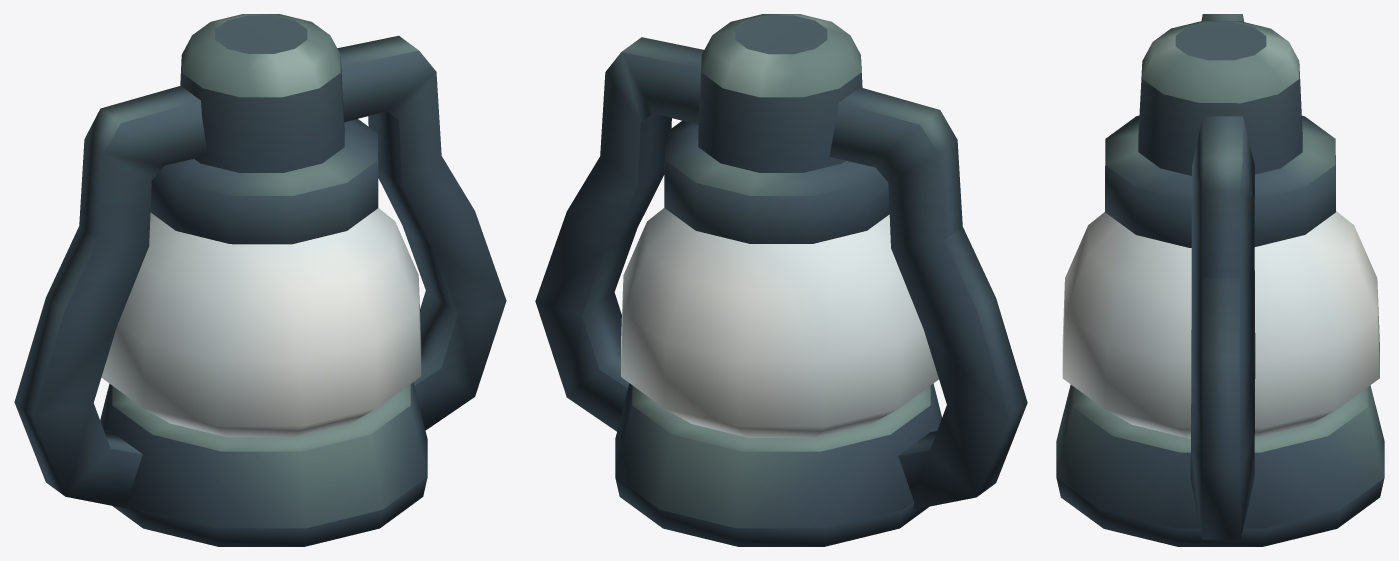
The model's file is tavern_lantern.fbx.
3 renders of one model, left to right at view 1: azimuth 30°, elevation 25°; view 2: azimuth 150°, elevation 25°; view 3: azimuth 270°, elevation 25°, orthographic.
Parts seen in each view (by area): view 1: tavern_lantern_LOD0; view 2: tavern_lantern_LOD0; view 3: tavern_lantern_LOD0.
Part boxes in pixels (x1,y1,x2,y2): tavern_lantern_LOD0: (14, 14, 506, 546); tavern_lantern_LOD0: (535, 14, 1027, 546); tavern_lantern_LOD0: (1056, 14, 1384, 546).
Size of what is drawn, in the model's own units: 68.09 by 62.71 by 41.43.
